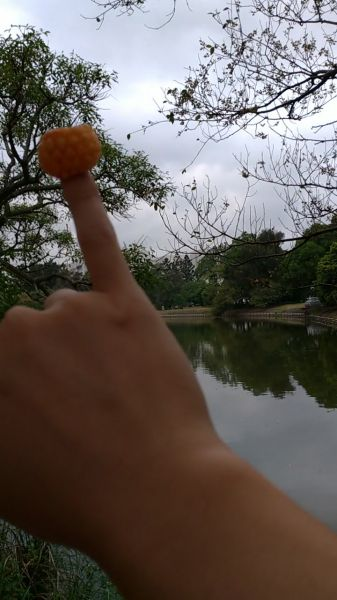eggs: (41, 124, 100, 176)
